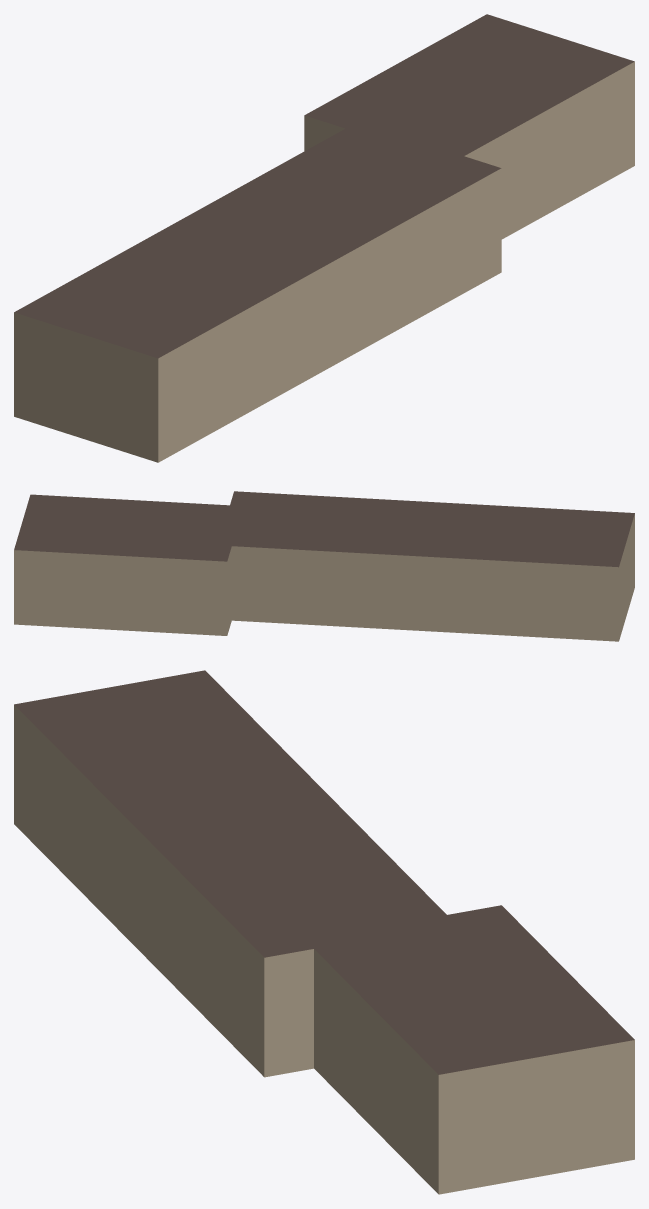
3 renders of one model, top to bottom at view 1: azimuth 30°, elevation 25°; view 2: azimuth 150°, elevation 25°; view 3: azimuth 270°, elevation 25°, orthographic. The views are drawn at different scales.
Visible parts, largest first — view 1: HP-w298243638; view 2: HP-w298243638; view 3: HP-w298243638.
Boxes of the visible parts, x1=… form: HP-w298243638: x1=14, y1=14, x2=634, y2=462; HP-w298243638: x1=14, y1=491, x2=634, y2=641; HP-w298243638: x1=14, y1=670, x2=634, y2=1194.
Bounding box in the file's own units: 65.23 × 9 × 42.31.
